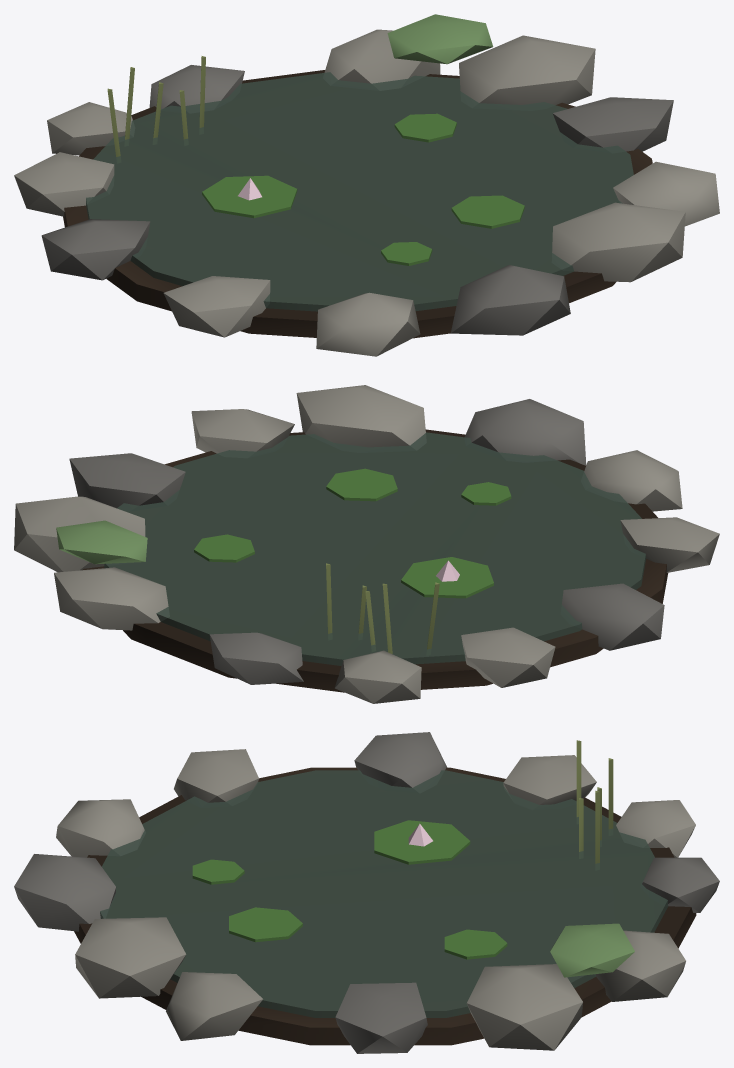
The model's file is pond_yard.glb.
The picture shows the model from 3 angles, top to bottom: view 1: azimuth 30°, elevation 25°; view 2: azimuth 150°, elevation 25°; view 3: azimuth 270°, elevation 25°; orthographic projection. The views are drawn at different scales.
Visible parts, largest first — view 1: water, pond_yard; view 2: water, pond_yard; view 3: water, pond_yard.
Part boxes in pixels (x1,y1,x2,y2): water: [86, 72, 633, 311]; pond_yard: [14, 14, 719, 356]; water: [104, 432, 646, 665]; pond_yard: [14, 385, 719, 703]; water: [100, 770, 668, 1017]; pond_yard: [14, 732, 719, 1053].
Bounding box in the file's own units: 1.88 × 0.2746 × 1.81.
